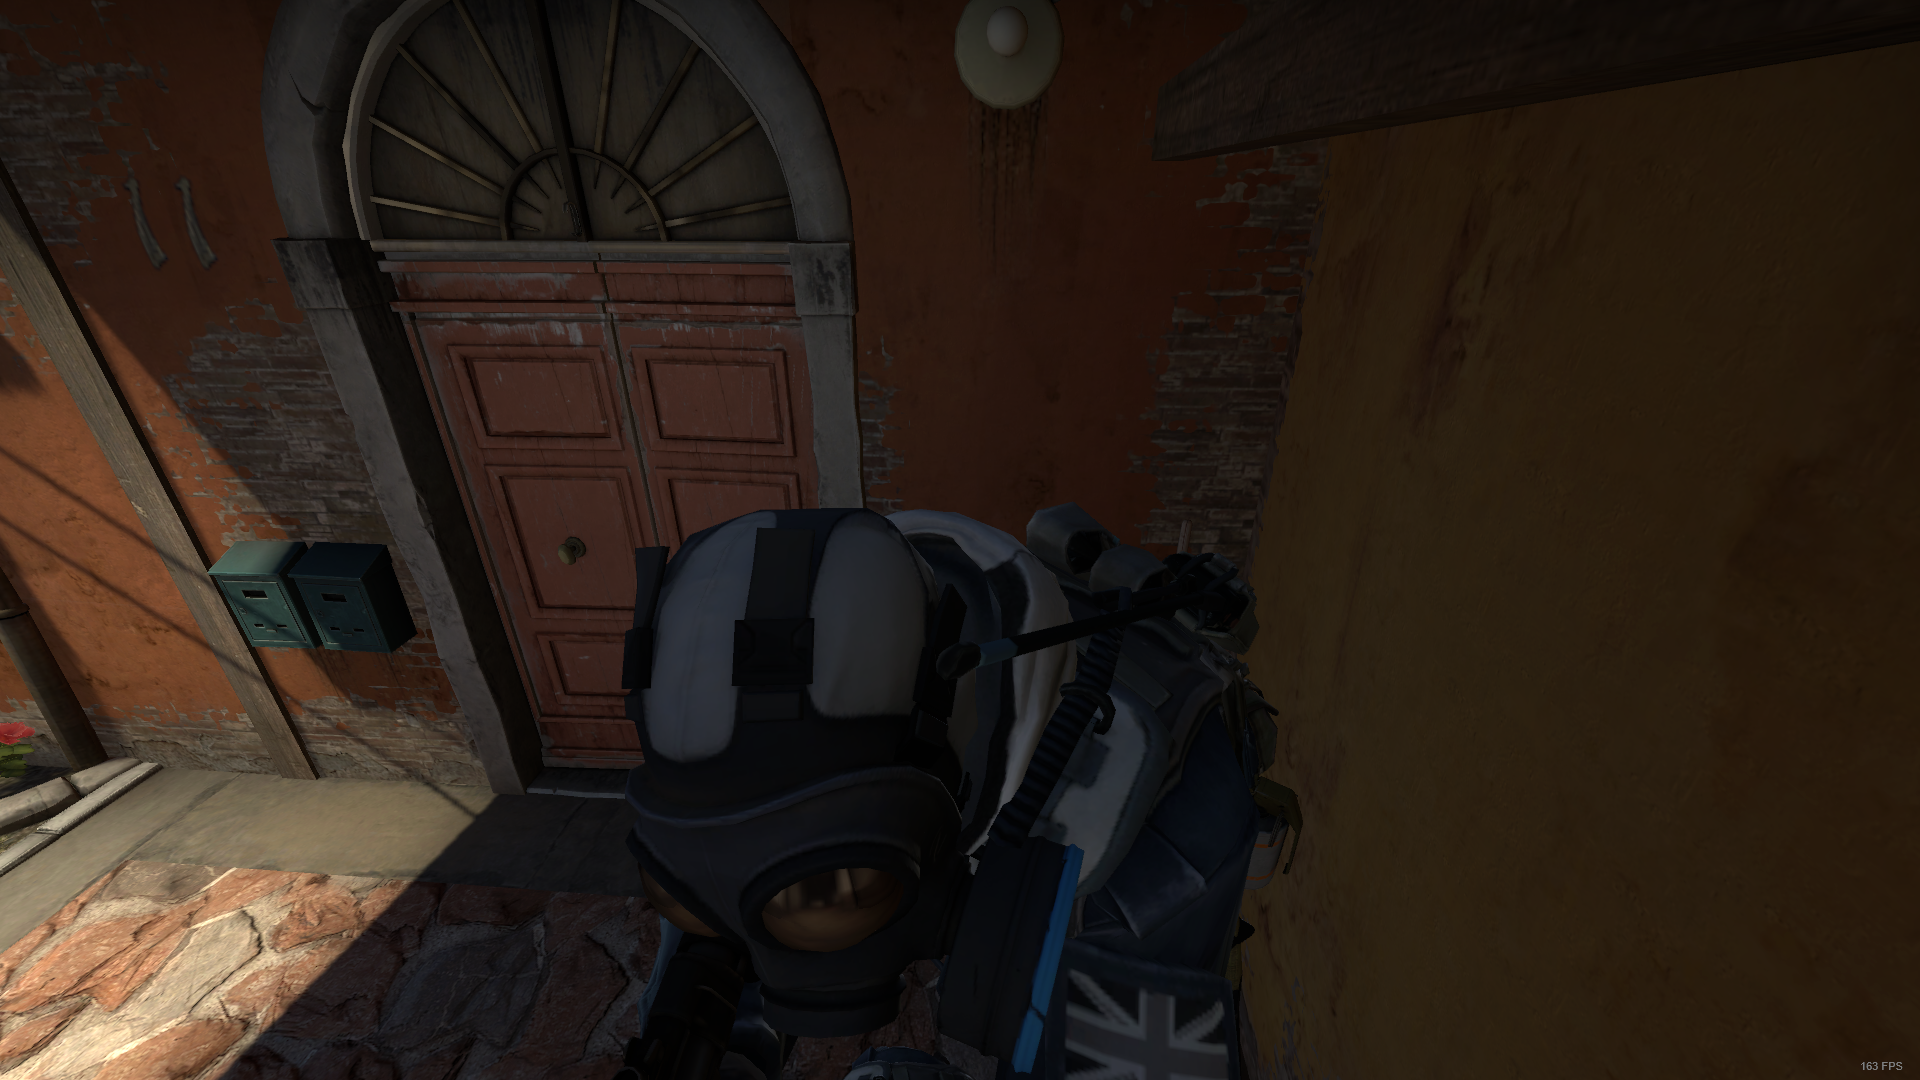ct: (624, 497, 1302, 1080)
